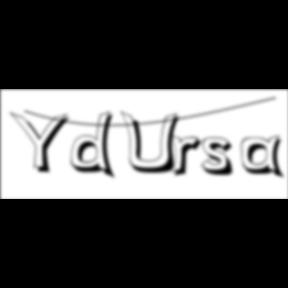U: (120, 110, 186, 176)
Y: (9, 110, 76, 176)
a: (240, 135, 288, 182)
d: (71, 110, 121, 182)
r: (170, 134, 208, 180)
s: (202, 137, 241, 179)
